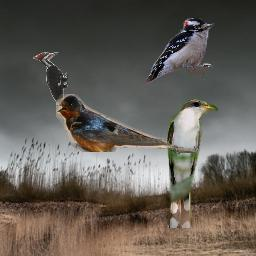Cuckoo: (166, 98, 218, 228)
Swallow: (56, 94, 184, 152)
Woodpecker: (145, 18, 215, 85), (33, 52, 68, 120)
